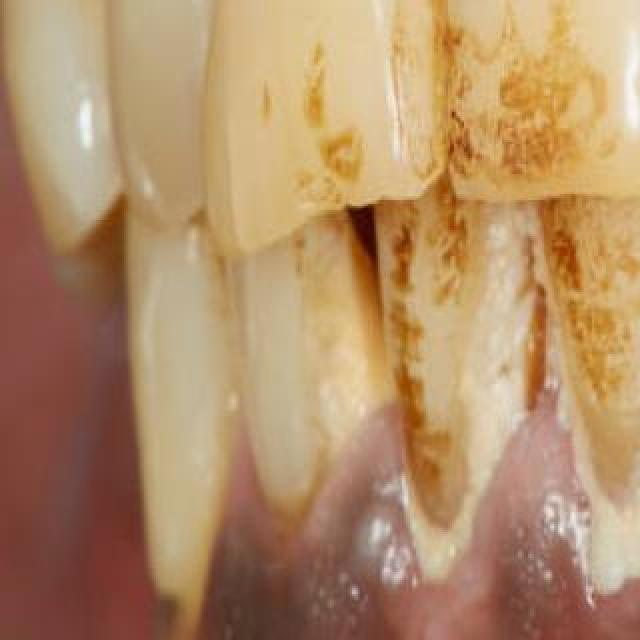calculus: (390, 332, 536, 594), (554, 372, 640, 632)
plaque: (463, 212, 593, 420), (6, 0, 108, 54), (632, 150, 640, 352)
spacing: (328, 184, 400, 424)
stains: (379, 185, 537, 517), (256, 0, 450, 220), (532, 180, 640, 500), (456, 0, 640, 174), (251, 223, 369, 491)
